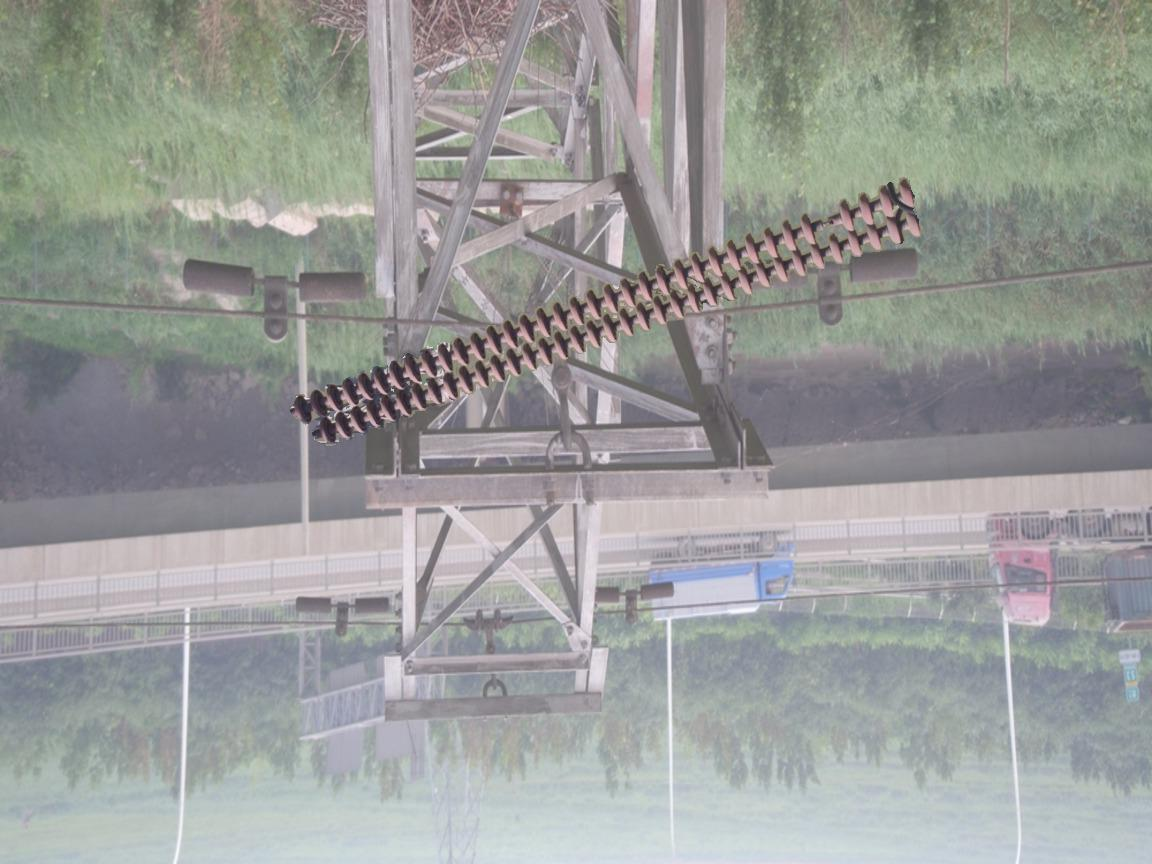insulator: (282, 177, 923, 446)
insulator_stringdrop: (798, 196, 859, 247)
